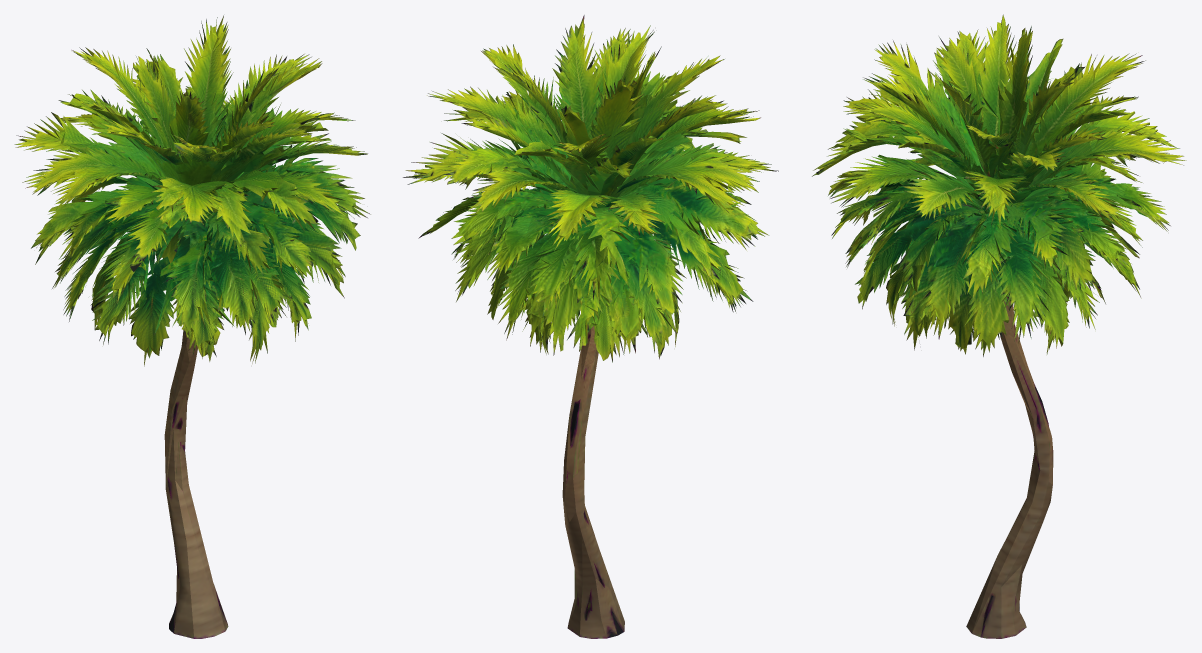
Rendered from tree-palm-a.glb.
The picture shows the model from 3 angles, left to right: view 1: azimuth 30°, elevation 25°; view 2: azimuth 150°, elevation 25°; view 3: azimuth 270°, elevation 25°; orthographic projection.
Bounding box in the file's own units: 7.04 × 12 × 7.06.
1 material, 1 textured.
